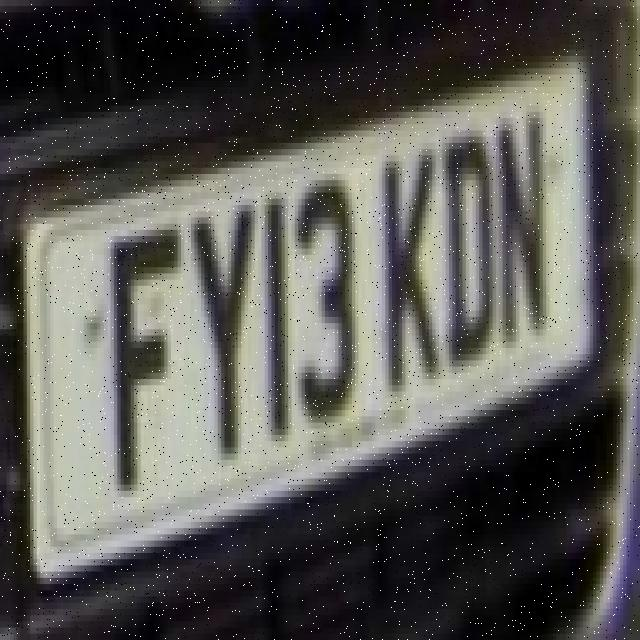licenseplate: (35, 96, 592, 518)
